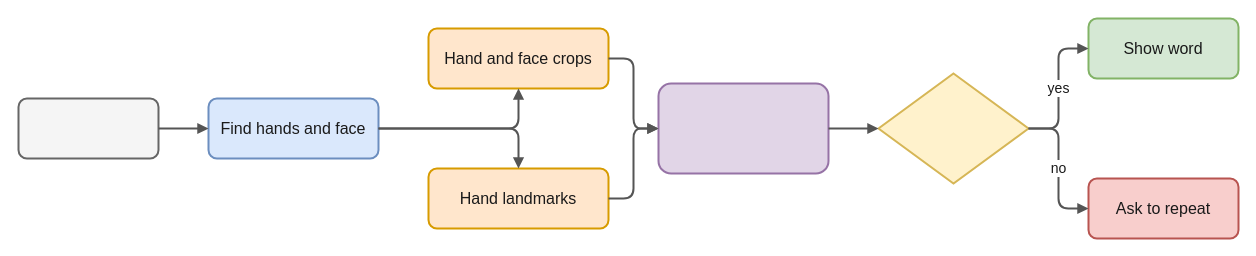
Image size: 1256x256. Some labels were removed from this diagram. The box of each missing label's shape, as (x1, y1, x2, y2) in pixels:
Confident?: (877, 72, 1029, 184)
ISL-ViT-Tiny: (657, 82, 829, 174)
Sign video: (17, 97, 159, 159)
